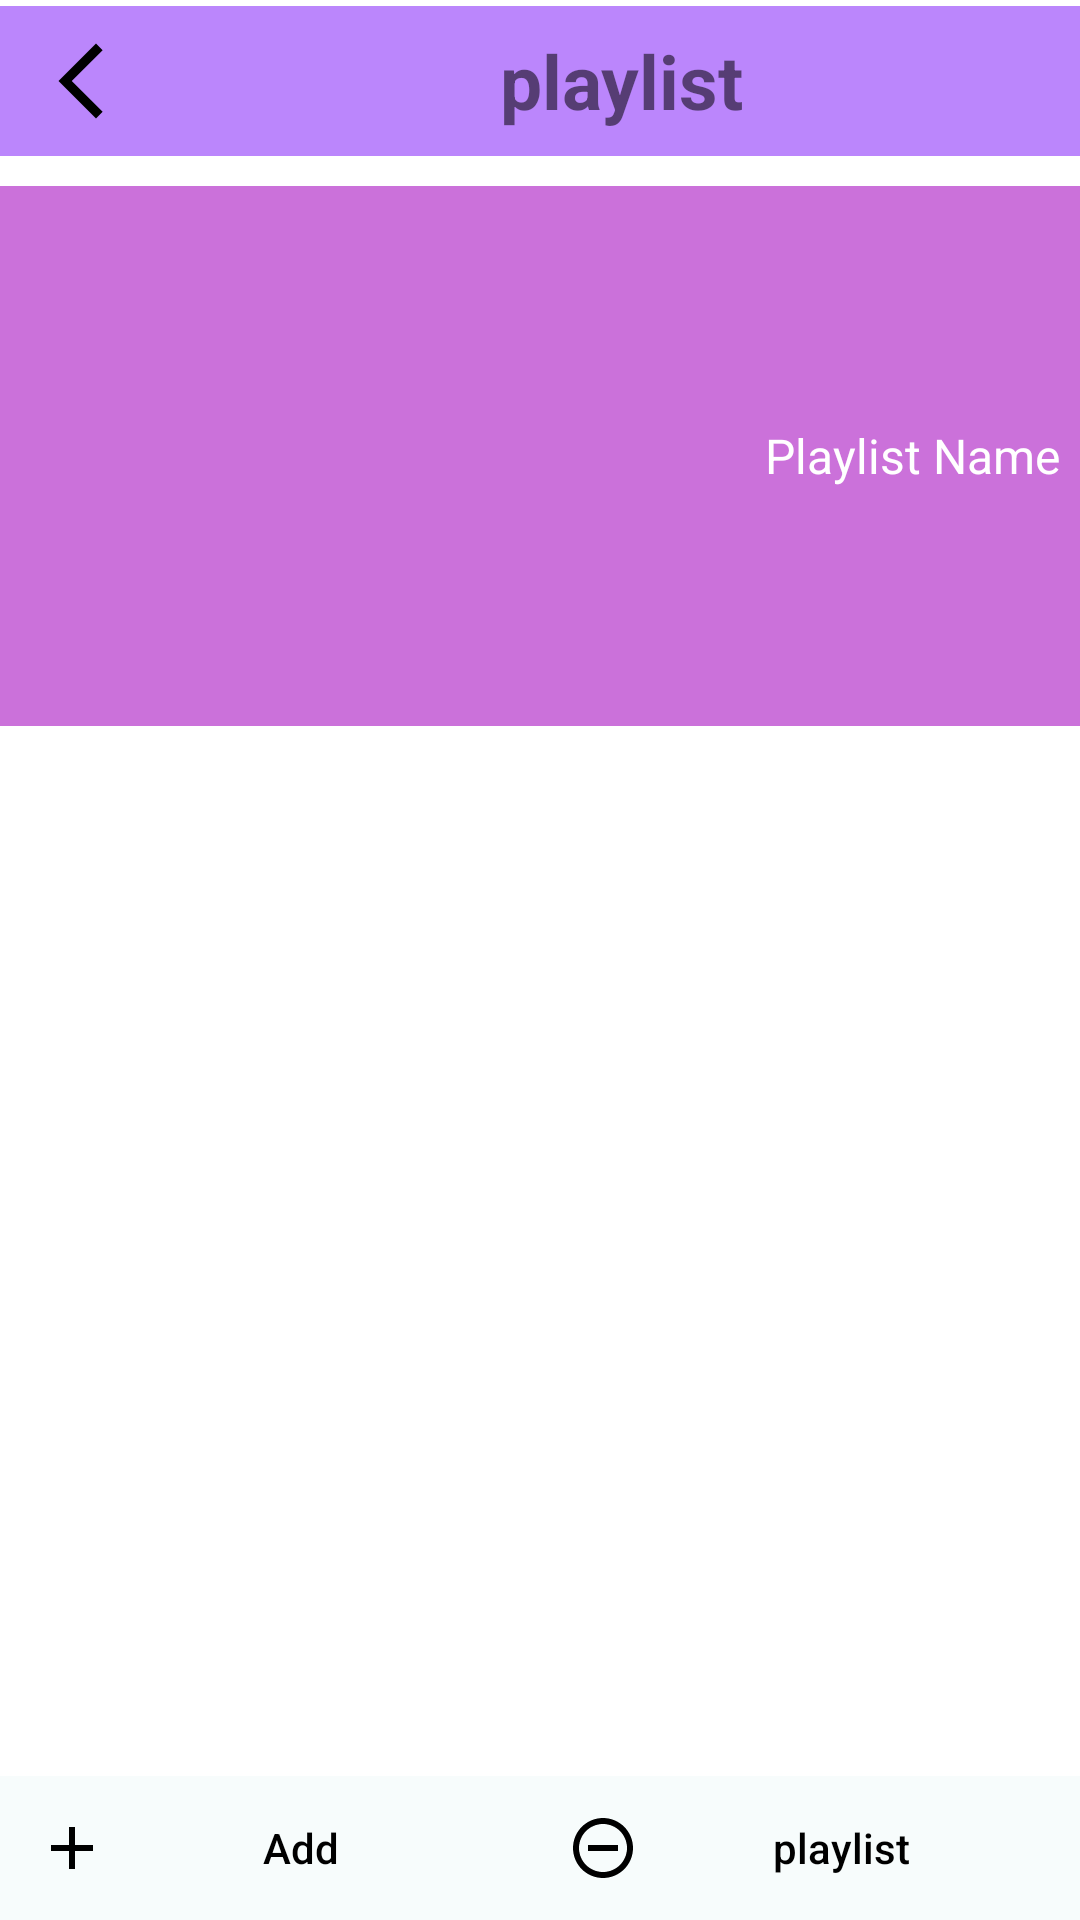

Icons on this 1080px x 1920px Android screen, each with its box as (x1, y1, x2, y2):
back: (58, 43, 103, 119)
